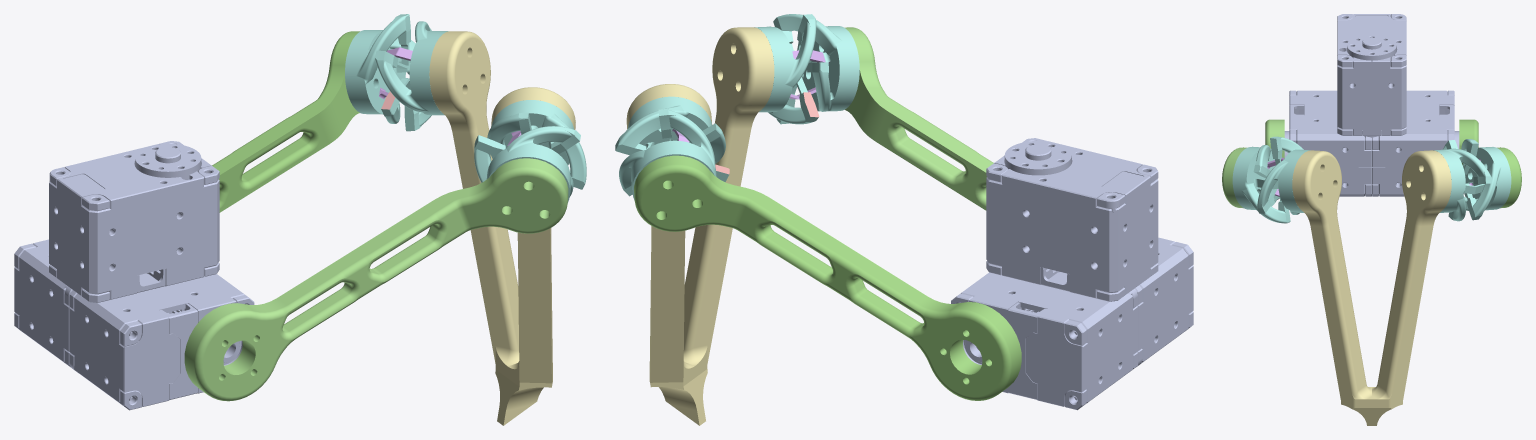
3 views of the same model, side by side, from view 1: azimuth 30°, elevation 25°; view 2: azimuth 150°, elevation 25°; view 3: azimuth 270°, elevation 25° (orthographic). The views are drawn at different scales.
Visible parts, largest first — view 1: Fibia_FC_001-3, XL-430_new.stp-6/DC11_A01_DUMMY.stp-1, EndEffector_001-1, XL-430_new.stp-4/DC11_A01_DUMMY.stp-1, UniversalJointP_Flexure-2, Fibia_FC_001-1, UniversalJointP_Flexure-3, XL-430_new.stp-3/DC11_A01_DUMMY.stp-1, XL-430_new.stp-4/DC11_A01_CASE_CVR_DUMMY.stp-1; view 2: Fibia_FC_001-1, XL-430_new.stp-6/DC11_A01_DUMMY.stp-1, EndEffector_001-1, XL-430_new.stp-3/DC11_A01_DUMMY.stp-1, UniversalJointP_Flexure-3, Fibia_FC_001-3, UniversalJointP_Flexure-2, XL-430_new.stp-4/DC11_A01_DUMMY.stp-1, XL-430_new.stp-3/DC11_A01_CASE_CVR_DUMMY.stp-1, XL-430_new.stp-6/DC11_A01_CASE_CVR_DUMMY.stp-1; view 3: EndEffector_001-1, XL-430_new.stp-6/DC11_A01_DUMMY.stp-1, XL-430_new.stp-3/DC11_A01_DUMMY.stp-1, XL-430_new.stp-4/DC11_A01_DUMMY.stp-1, UniversalJointP_Flexure-3, UniversalJointP_Flexure-2, Fibia_FC_001-1, Fibia_FC_001-3.
Boxes of the visible parts, x1,y1,x2,y2 form: Fibia_FC_001-3: [184, 158, 568, 401]; XL-430_new.stp-6/DC11_A01_DUMMY.stp-1: [49, 143, 219, 299]; EndEffector_001-1: [429, 31, 575, 425]; XL-430_new.stp-4/DC11_A01_DUMMY.stp-1: [69, 274, 244, 406]; UniversalJointP_Flexure-2: [345, 14, 448, 131]; Fibia_FC_001-1: [212, 31, 359, 212]; UniversalJointP_Flexure-3: [474, 100, 586, 202]; XL-430_new.stp-3/DC11_A01_DUMMY.stp-1: [14, 239, 69, 365]; XL-430_new.stp-4/DC11_A01_CASE_CVR_DUMMY.stp-1: [160, 303, 197, 400]; Fibia_FC_001-1: [634, 155, 1021, 400]; XL-430_new.stp-6/DC11_A01_DUMMY.stp-1: [986, 141, 1158, 298]; EndEffector_001-1: [626, 27, 774, 425]; XL-430_new.stp-3/DC11_A01_DUMMY.stp-1: [961, 272, 1137, 406]; UniversalJointP_Flexure-3: [754, 14, 859, 124]; Fibia_FC_001-3: [844, 27, 993, 210]; UniversalJointP_Flexure-2: [615, 96, 729, 200]; XL-430_new.stp-4/DC11_A01_DUMMY.stp-1: [1137, 237, 1193, 362]; XL-430_new.stp-3/DC11_A01_CASE_CVR_DUMMY.stp-1: [1008, 302, 1046, 399]; XL-430_new.stp-6/DC11_A01_CASE_CVR_DUMMY.stp-1: [1040, 267, 1069, 291]; EndEffector_001-1: [1292, 150, 1451, 425]; XL-430_new.stp-6/DC11_A01_DUMMY.stp-1: [1337, 14, 1406, 135]; XL-430_new.stp-3/DC11_A01_DUMMY.stp-1: [1372, 90, 1454, 196]; XL-430_new.stp-4/DC11_A01_DUMMY.stp-1: [1289, 90, 1371, 196]; UniversalJointP_Flexure-3: [1232, 136, 1310, 223]; UniversalJointP_Flexure-2: [1433, 139, 1511, 221]; Fibia_FC_001-1: [1459, 119, 1521, 208]; Fibia_FC_001-3: [1222, 119, 1284, 208].
Bounding box in the file's own units: 0.1679 × 0.1246 × 0.1235.
